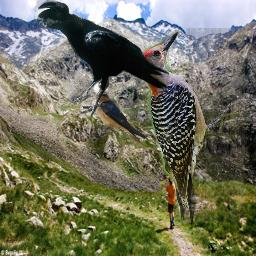Crow: (34, 0, 169, 117)
Swallow: (95, 91, 155, 159)
Woodpecker: (130, 28, 245, 223)
